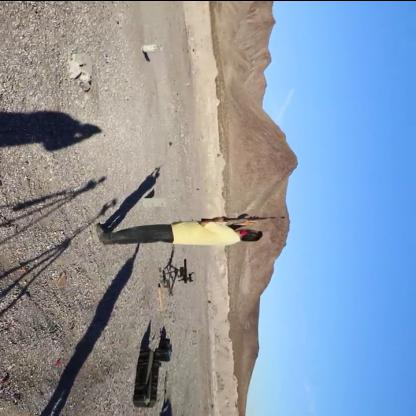long weapon: (196, 206, 297, 224), (161, 252, 199, 288)
